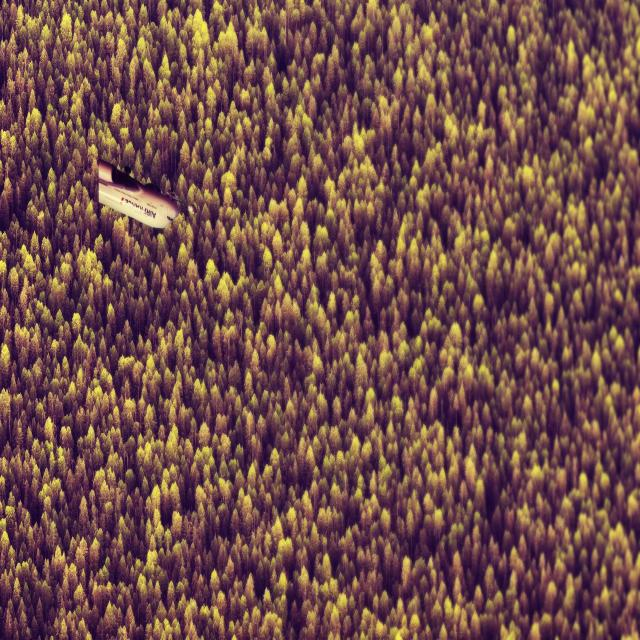airplane: (96, 157, 194, 230)
